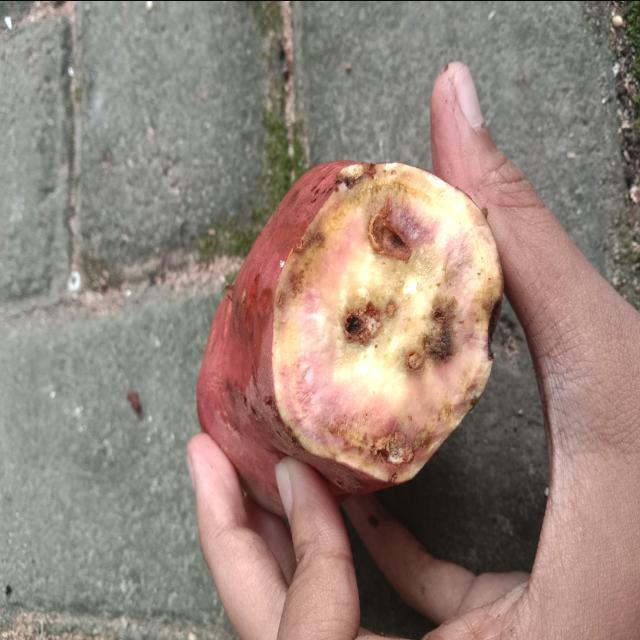Sick Sweet Potato_Tuber Rot: (272, 162, 502, 482)
